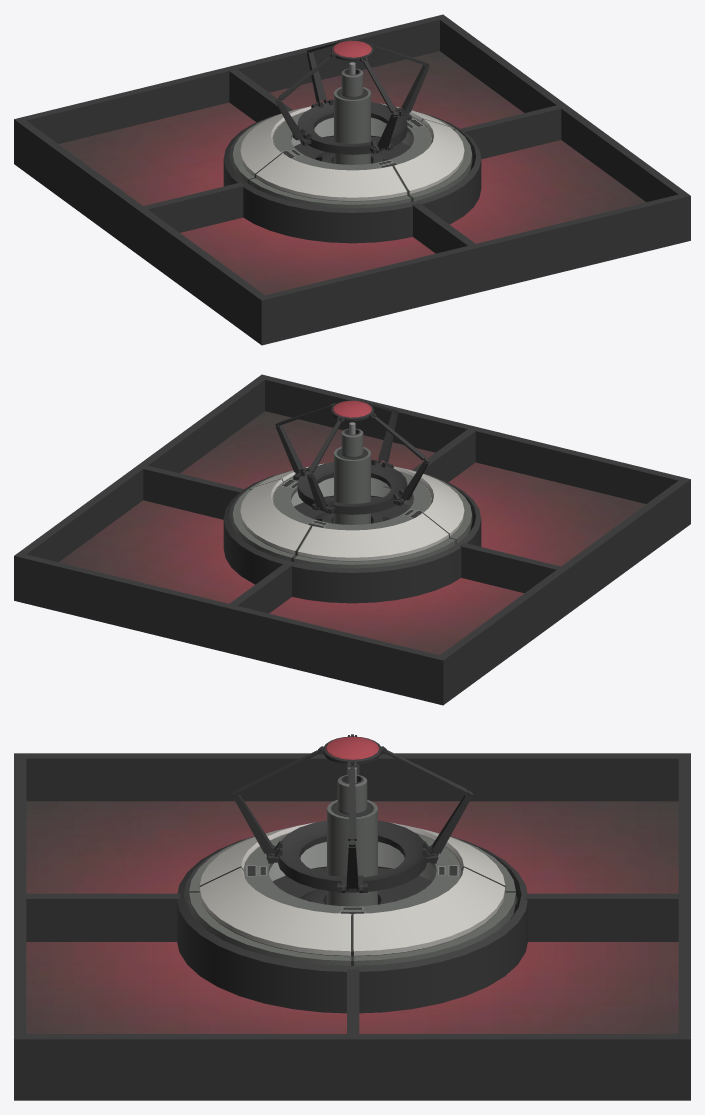
File: laser_emitter.glb
3 renders of one model, top to bottom at view 1: azimuth 30°, elevation 25°; view 2: azimuth 150°, elevation 25°; view 3: azimuth 270°, elevation 25°, orthographic. The views are drawn at different scales.
Parts seen in each view (by area): view 1: EDITOR_laser_emitter; view 2: EDITOR_laser_emitter; view 3: EDITOR_laser_emitter.
Boxes of the visible parts, bbox=[...] form: EDITOR_laser_emitter: bbox=[14, 14, 690, 345]; EDITOR_laser_emitter: bbox=[14, 374, 690, 705]; EDITOR_laser_emitter: bbox=[14, 734, 690, 1100].
Size of the model in its own units: 0.7936 by 0.2762 by 0.7936.
1 material, 1 textured.
